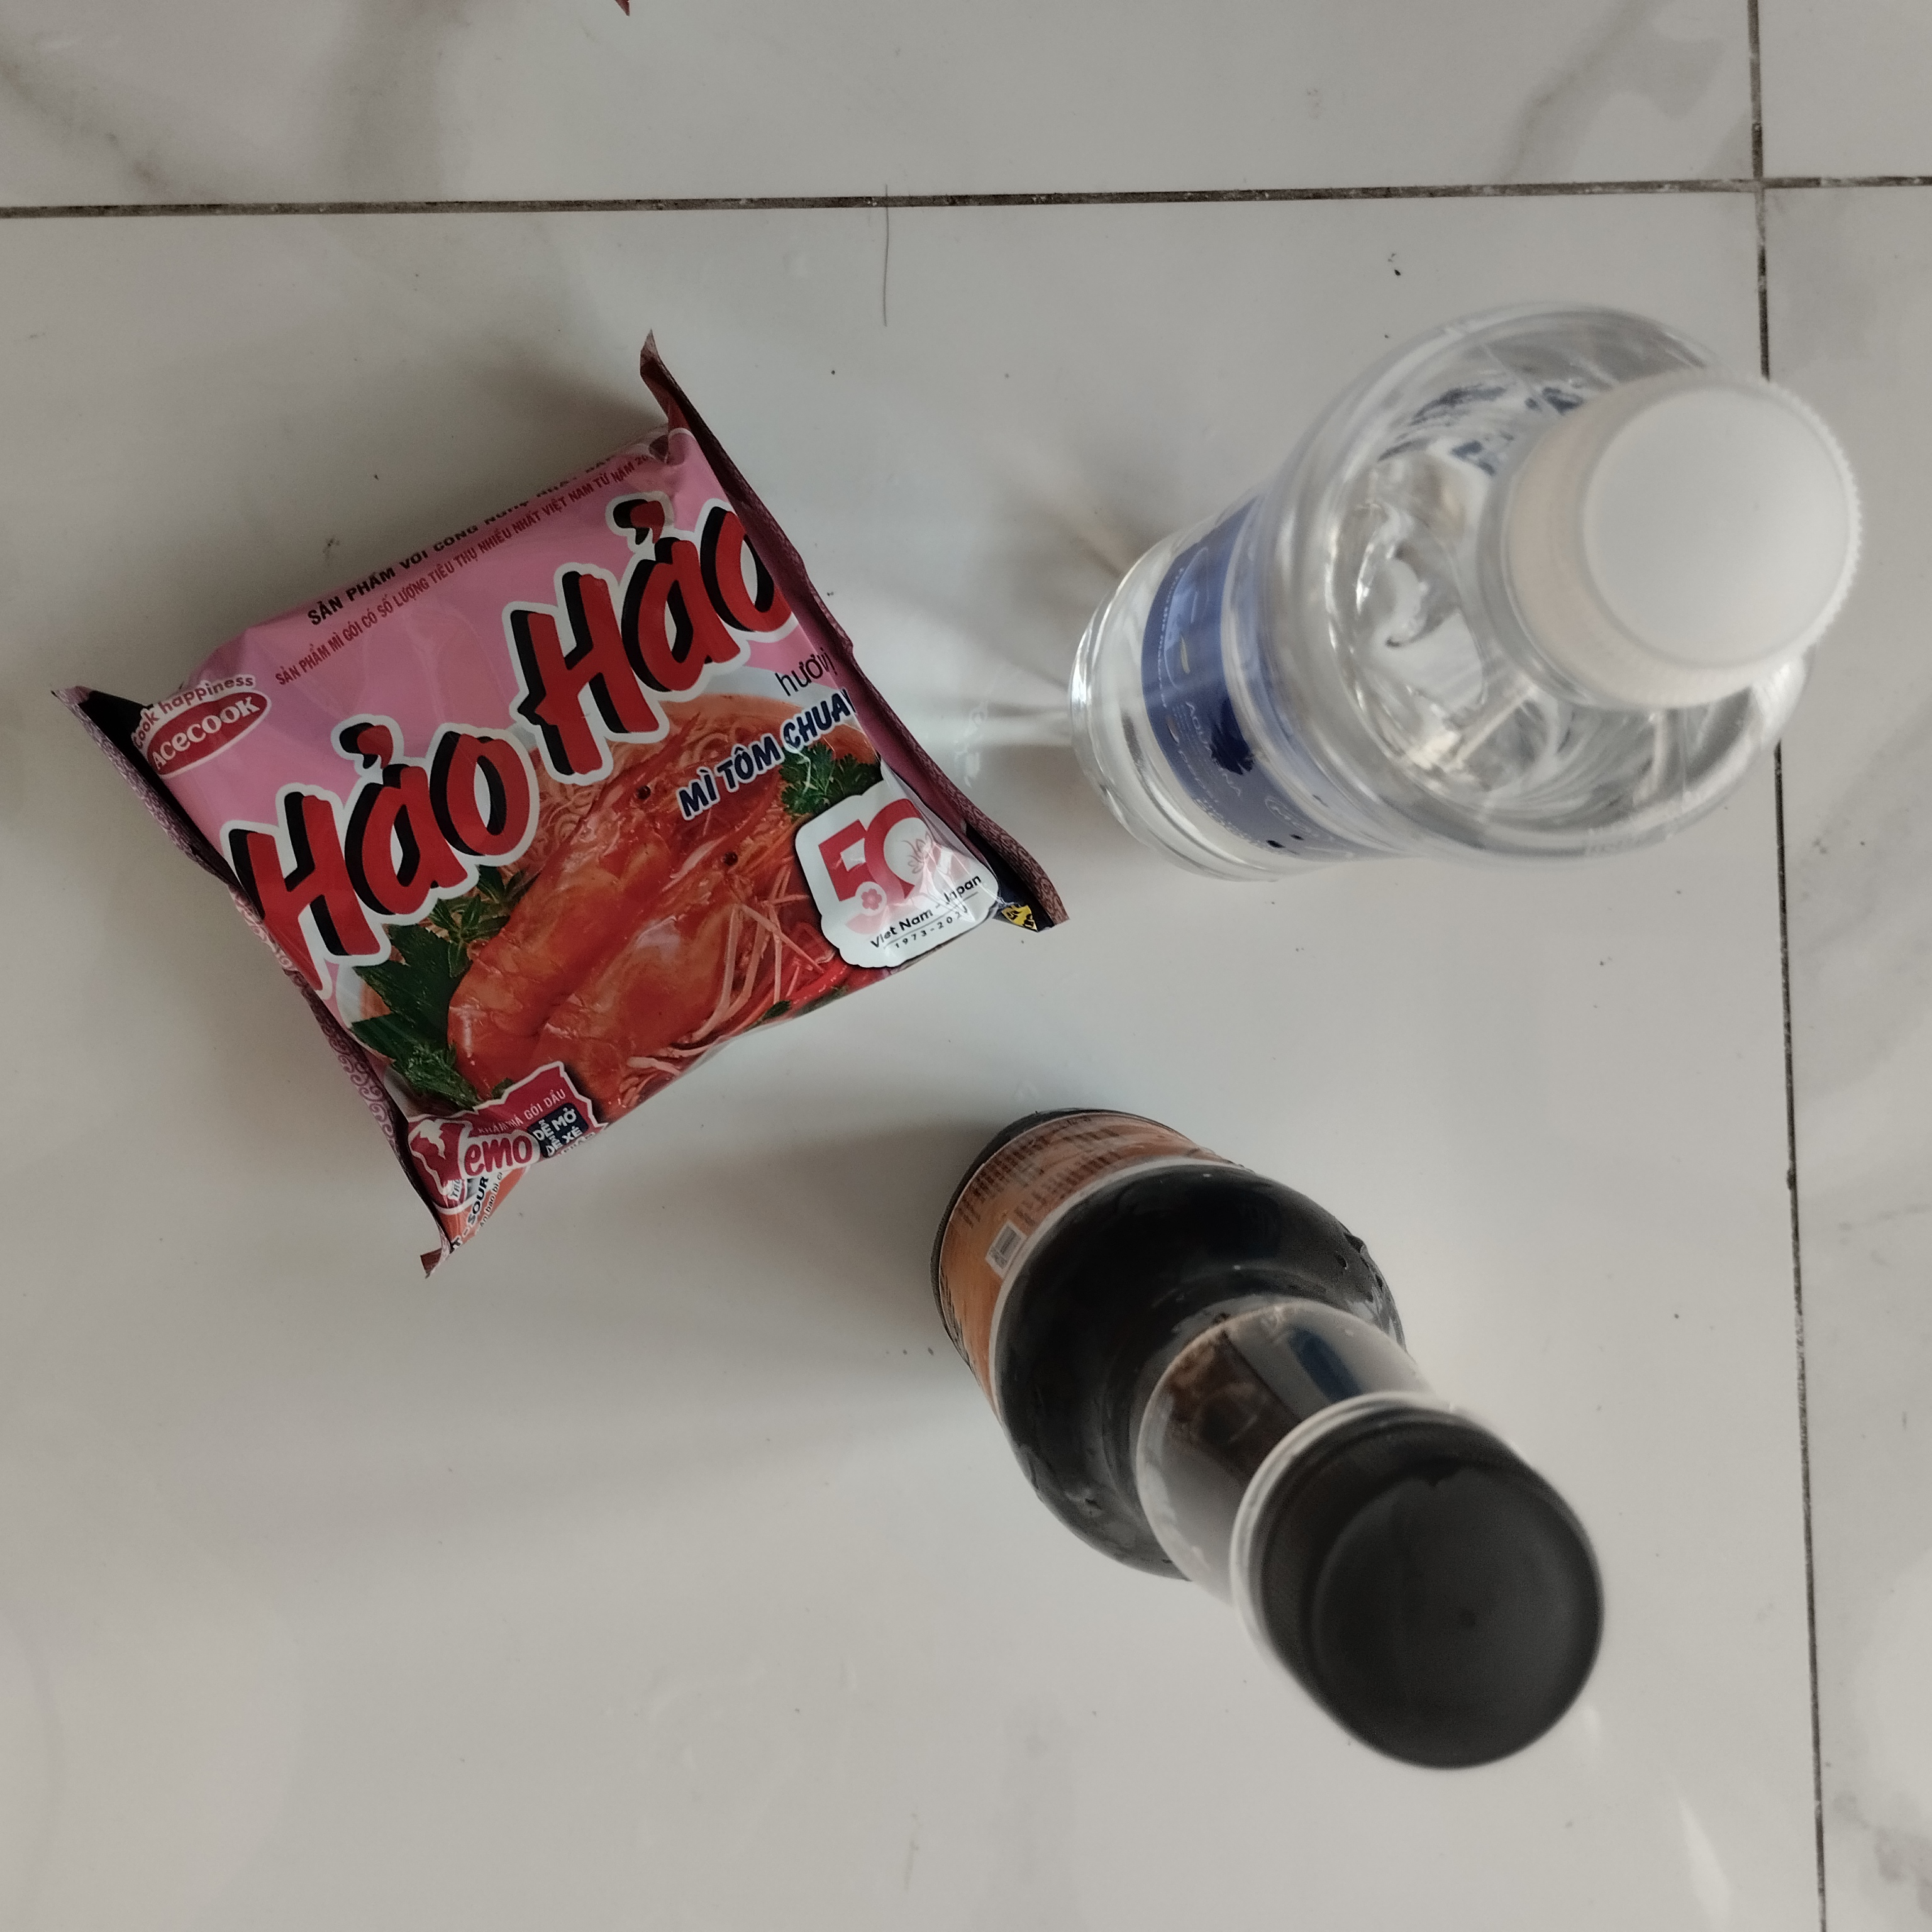247: (909, 1086, 1619, 1775)
Aquafina: (1044, 295, 1870, 1014)
Haohao: (37, 340, 1083, 1283)
